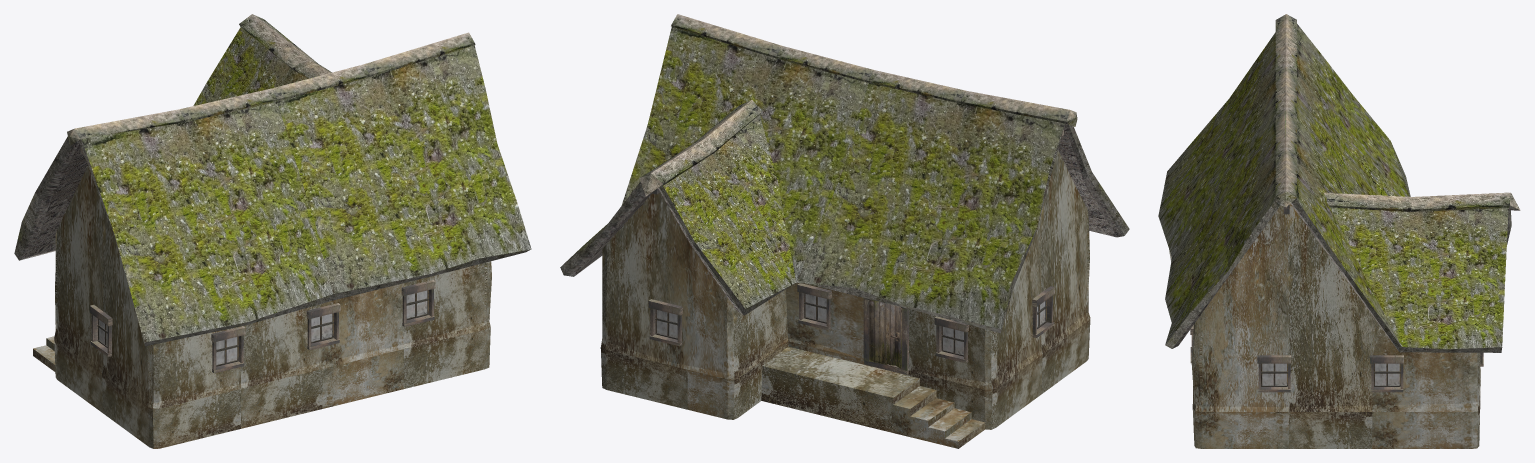
The model's file is plasterHouse1.fbx.
3 renders of one model, left to right at view 1: azimuth 30°, elevation 25°; view 2: azimuth 150°, elevation 25°; view 3: azimuth 270°, elevation 25°, orthographic. The views are drawn at different scales.
Visible parts, largest first — view 1: roof, base; view 2: roof, base, steps, door; view 3: roof, base.
Part boxes in pixels (x1,y1,x2,y2): roof: (14,14,531,346); base: (54,166,491,448); roof: (560,14,1129,333); base: (600,150,1090,429); steps: (761,346,985,448); door: (869,299,901,368); roof: (1158,14,1520,352); base: (1190,204,1483,448).
Bounding box in the file's own units: 20.09 × 13.81 × 16.82.
